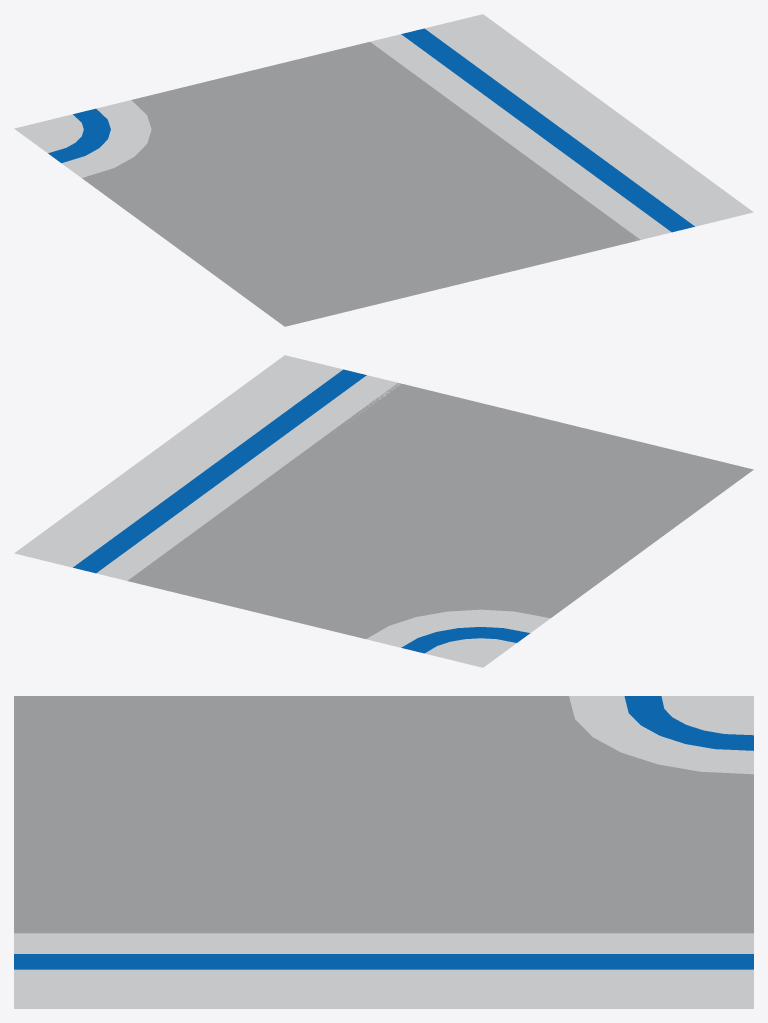
Rendered from Ceiling_type_A_034.011.fbx.
3 views of the same model, one above another, from view 1: azimuth 30°, elevation 25°; view 2: azimuth 150°, elevation 25°; view 3: azimuth 270°, elevation 25° (orthographic). The views are drawn at different scales.
Visible parts, largest first — view 1: Ceiling_type_A_034.011; view 2: Ceiling_type_A_034.011; view 3: Ceiling_type_A_034.011.
Part boxes in pixels (x1,y1,x2,y2): Ceiling_type_A_034.011: (14, 14, 753, 326); Ceiling_type_A_034.011: (14, 355, 753, 667); Ceiling_type_A_034.011: (14, 696, 753, 1008).
Bounding box in the file's own units: 400 × 400 × 1.2.
